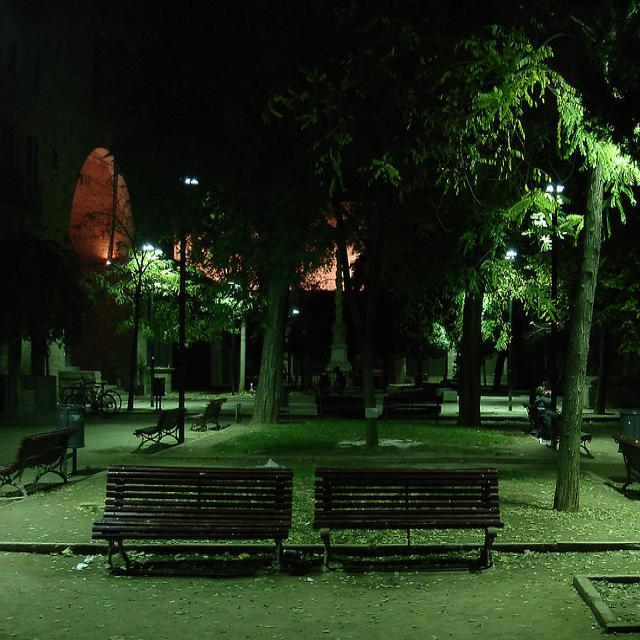Bicycle: (76, 383, 126, 428)
People: (325, 348, 350, 395)
chair: (71, 457, 311, 596), (314, 457, 522, 596), (0, 410, 82, 512), (140, 404, 203, 471), (376, 387, 446, 431), (616, 409, 640, 523), (191, 393, 240, 445), (315, 392, 366, 430)
